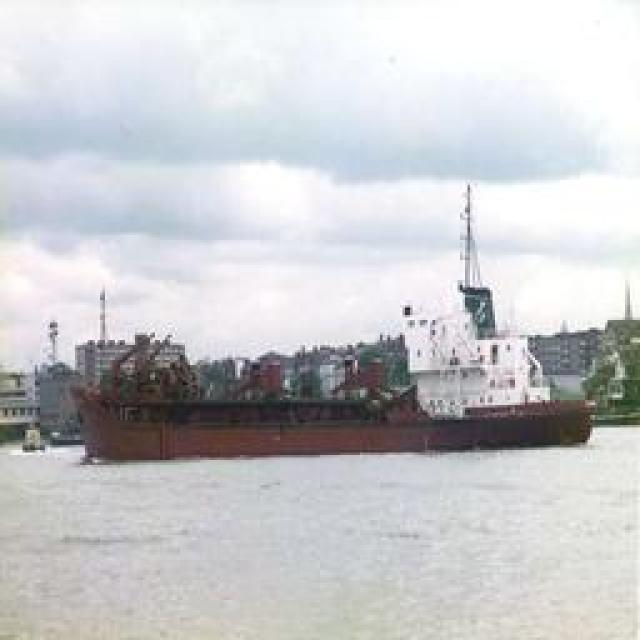ship2: (79, 184, 598, 465)
